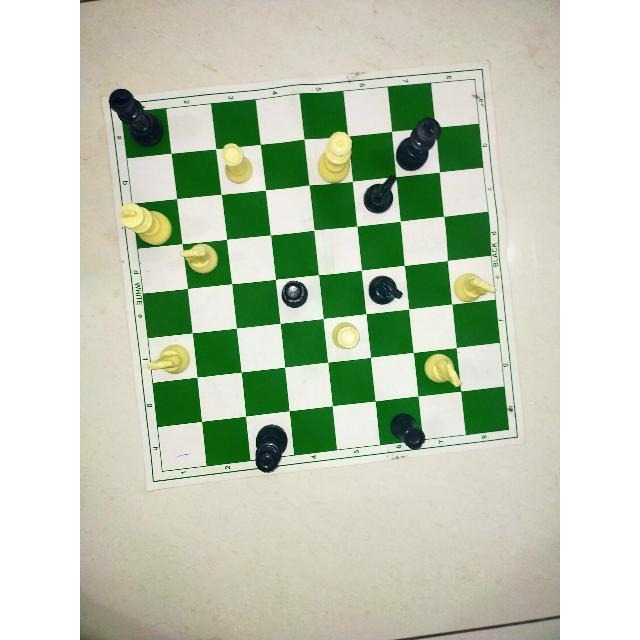black-king: (100, 86, 170, 156), (100, 86, 169, 154), (394, 106, 448, 177), (394, 108, 444, 176)
black-knight: (361, 269, 410, 312), (358, 171, 400, 221), (358, 172, 400, 222), (362, 269, 410, 312)
black-queen: (243, 415, 293, 480), (242, 416, 292, 479)
black-rook: (381, 408, 427, 456), (385, 407, 427, 455), (275, 271, 315, 313), (276, 273, 314, 314)
white-king: (114, 200, 178, 248), (114, 199, 178, 247)
white-knight: (451, 261, 503, 311), (414, 346, 466, 395), (143, 340, 197, 384), (143, 341, 199, 383), (416, 348, 466, 392), (175, 239, 225, 281), (175, 242, 226, 282), (451, 267, 499, 309)
white-queen: (311, 123, 358, 193), (314, 129, 357, 189)
white-rook: (216, 136, 260, 188), (216, 139, 258, 187), (325, 310, 365, 357), (326, 315, 364, 356)
